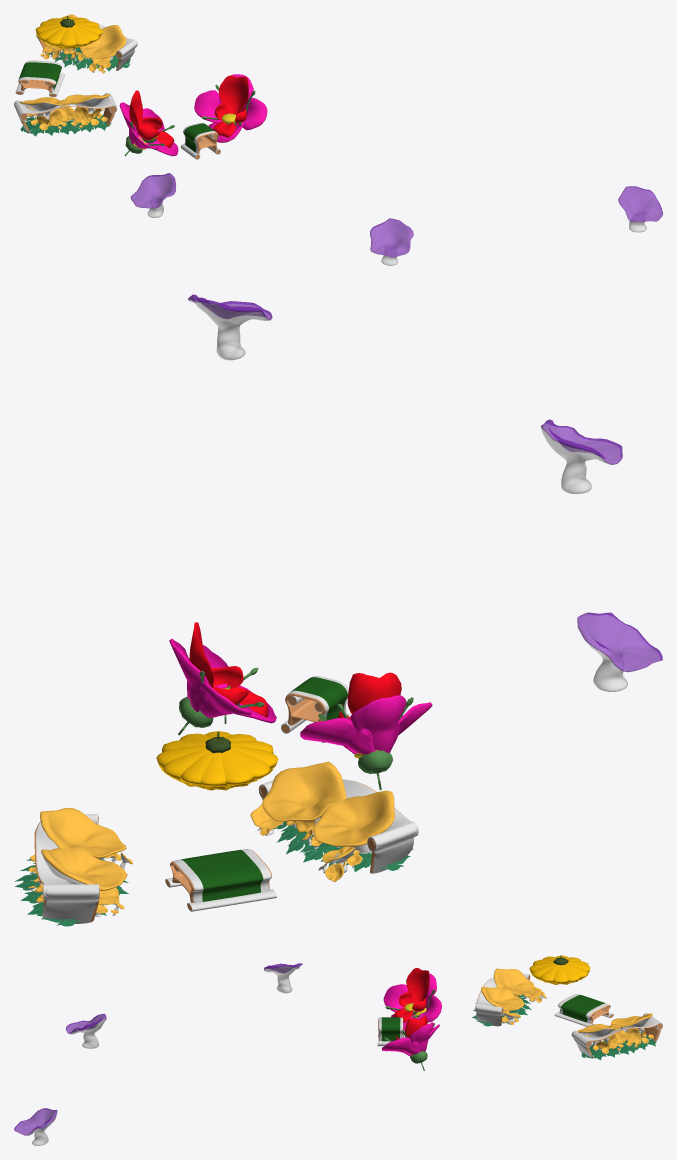
File: FurnitureLvl2.fbx
The picture shows the model from 3 angles, top to bottom: view 1: azimuth 30°, elevation 25°; view 2: azimuth 150°, elevation 25°; view 3: azimuth 270°, elevation 25°; orthographic projection. The views are drawn at different scales.
Parts seen in each view (by area): view 1: Circle.038, Circle.061, SingleGoldenOysterMushroom.110, SingleGoldenOysterMushroom.111, SingleGoldenOysterMushroom.109, Cylinder.064, SingleGoldenOysterMushroom.029, Circle.033, SingleGoldenOysterMushroom.004, Circle.046, Cylinder.041, Cylinder.036 (+4 smaller); view 2: SingleGoldenOysterMushroom.004, SingleGoldenOysterMushroom.029, Circle.061, Circle.046, Cylinder.064, SingleGoldenOysterMushroom.109, SingleGoldenOysterMushroom.110, Cylinder.066, Circle.038, SingleGoldenOysterMushroom.111, Cylinder.041, Cylinder.036 (+2 smaller); view 3: SingleGoldenOysterMushroom.004, Circle.061, Circle.046, Cylinder.064, SingleGoldenOysterMushroom.111, Circle.038, SingleGoldenOysterMushroom.029, SingleGoldenOysterMushroom.110, Circle.041, Cylinder.036, Cylinder.066, Cylinder.041 (+3 smaller).
Part boxes in pixels (x1,y1,x2,y2): Circle.038: (194,74,267,142); Circle.061: (35,16,102,47); SingleGoldenOysterMushroom.110: (370,218,413,265); SingleGoldenOysterMushroom.111: (618,186,662,232); SingleGoldenOysterMushroom.109: (130,173,175,217); Cylinder.064: (18,60,62,92); SingleGoldenOysterMushroom.029: (43,14,126,60); Circle.033: (219,75,248,114); SingleGoldenOysterMushroom.004: (19,94,110,124); Circle.046: (119,102,178,156); Cylinder.041: (183,122,218,153); Cylinder.036: (14,95,116,133); SingleGoldenOysterMushroom.004: (262,761,394,853); SingleGoldenOysterMushroom.029: (40,807,127,890); Circle.061: (156,731,278,787); Circle.046: (300,695,432,754); Cylinder.064: (170,849,271,902); SingleGoldenOysterMushroom.109: (577,612,662,691); SingleGoldenOysterMushroom.110: (541,419,622,493); Cylinder.066: (34,816,99,923); Circle.038: (169,638,276,723); SingleGoldenOysterMushroom.111: (188,294,272,360); Cylinder.041: (285,676,348,725); Cylinder.036: (259,779,416,873); SingleGoldenOysterMushroom.004: (481,968,534,1011); Circle.061: (529,955,590,983); Circle.046: (383,973,441,1030); Cylinder.064: (558,994,610,1023); SingleGoldenOysterMushroom.111: (14,1108,57,1145); Circle.038: (382,1022,439,1056); SingleGoldenOysterMushroom.029: (577,1013,652,1049); SingleGoldenOysterMushroom.110: (66,1014,106,1048); Circle.041: (406,968,429,1003); Cylinder.036: (476,975,530,1026); Cylinder.066: (572,1018,660,1057); Cylinder.041: (378,1017,403,1041).
Size of the model in its own units: 1620 by 325 by 2579.
